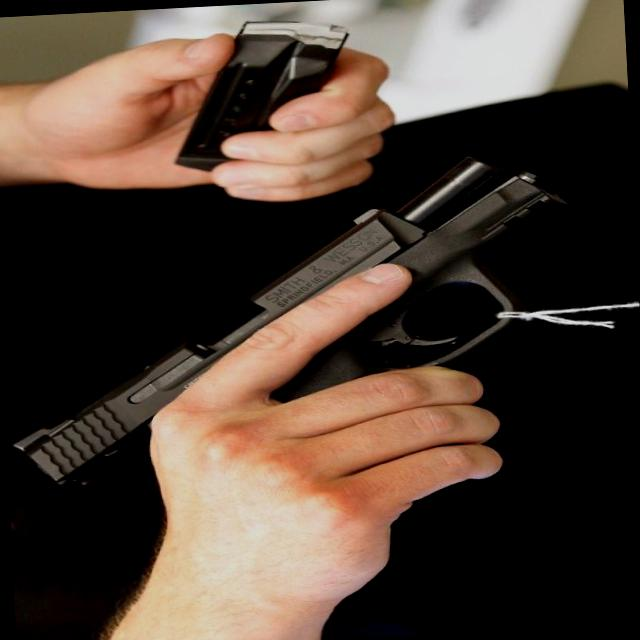handgun: (0, 149, 586, 547)
